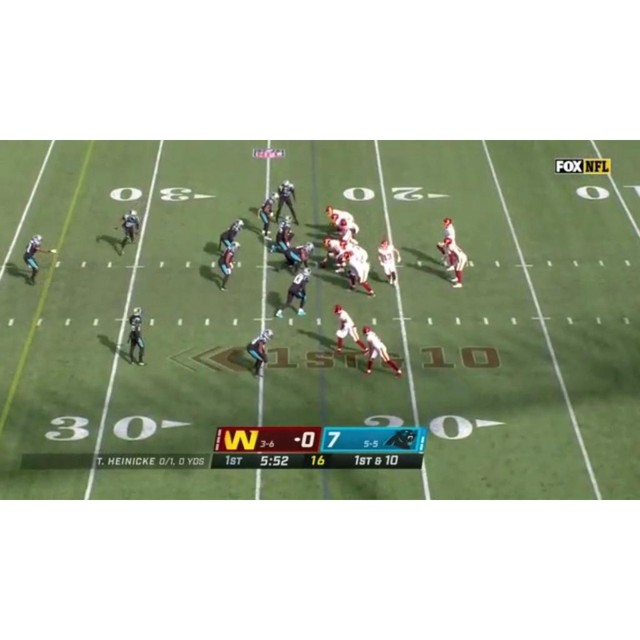american-football-player: (361, 325, 402, 377), (276, 266, 312, 318), (333, 303, 367, 355), (340, 251, 376, 298), (22, 234, 54, 285), (438, 238, 469, 289), (246, 328, 274, 379), (214, 241, 241, 292), (127, 307, 147, 367), (377, 238, 401, 286), (115, 210, 141, 254), (275, 180, 300, 225), (268, 217, 295, 257), (325, 204, 358, 236), (282, 242, 316, 272), (256, 193, 278, 238), (319, 236, 344, 271), (218, 219, 245, 251)
